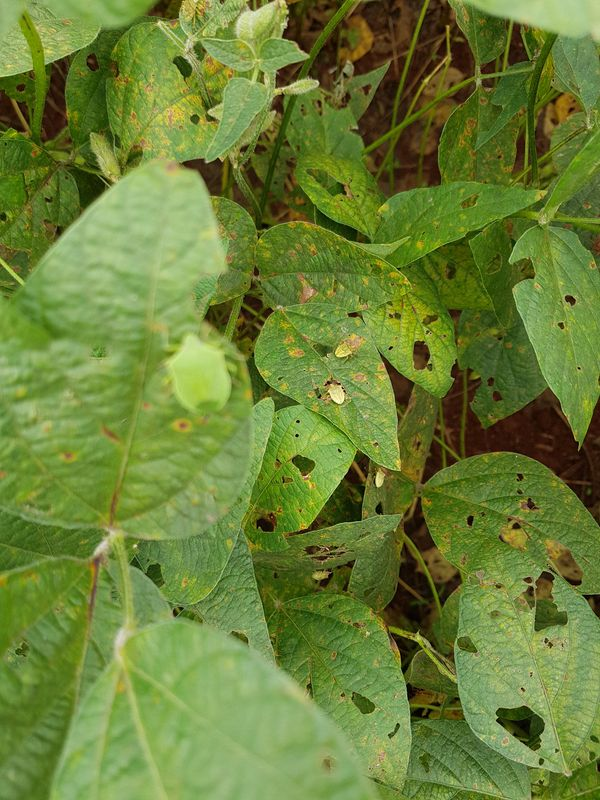Euschistus_heros_ninfa: (318, 376, 356, 416), (329, 335, 356, 366)
Nezara_viridula_adulto: (149, 316, 246, 430)
